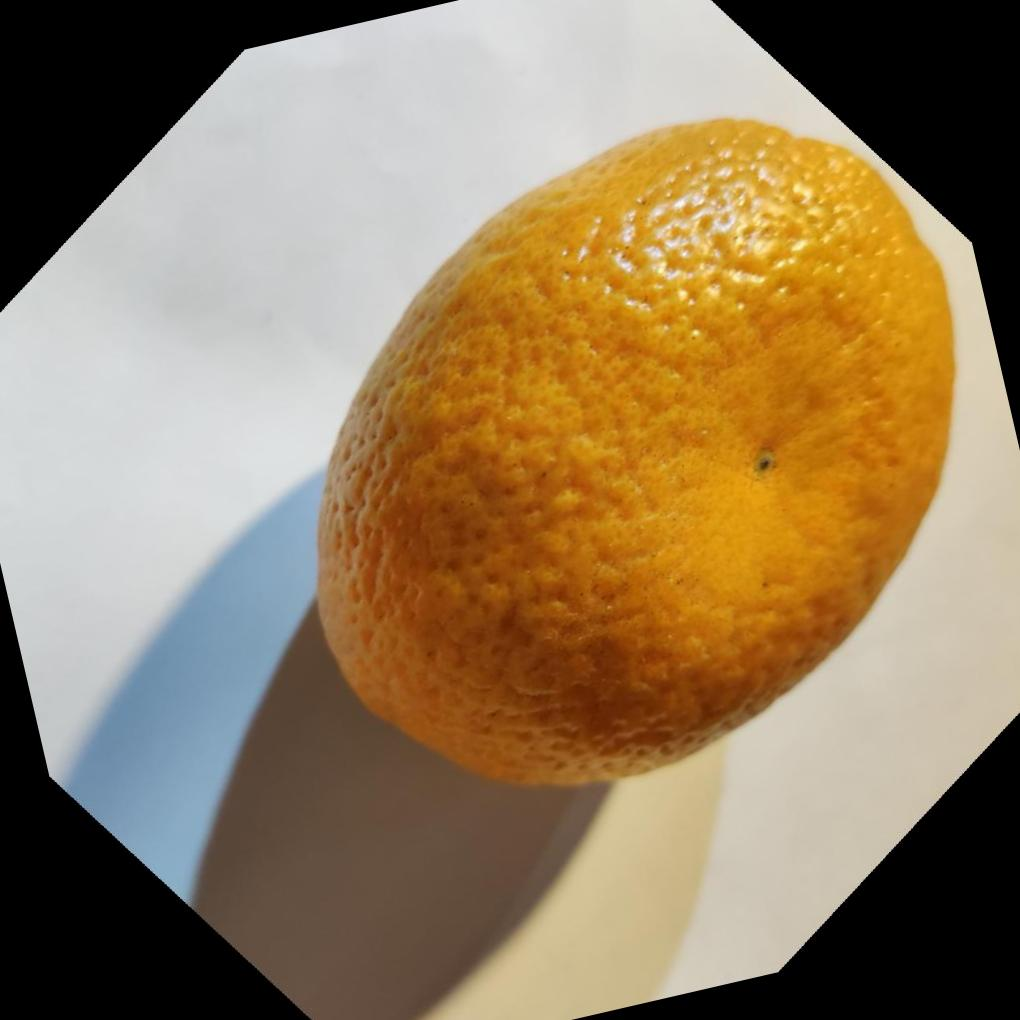FreshGuava: (312, 108, 956, 786)
